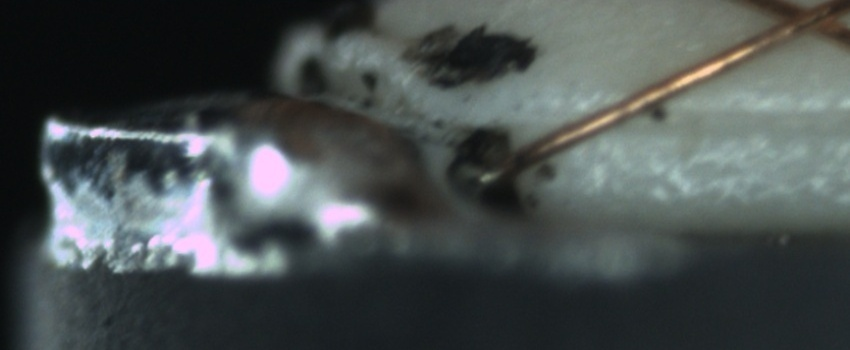CL: (755, 0, 840, 45)
DL: (565, 80, 844, 152)
